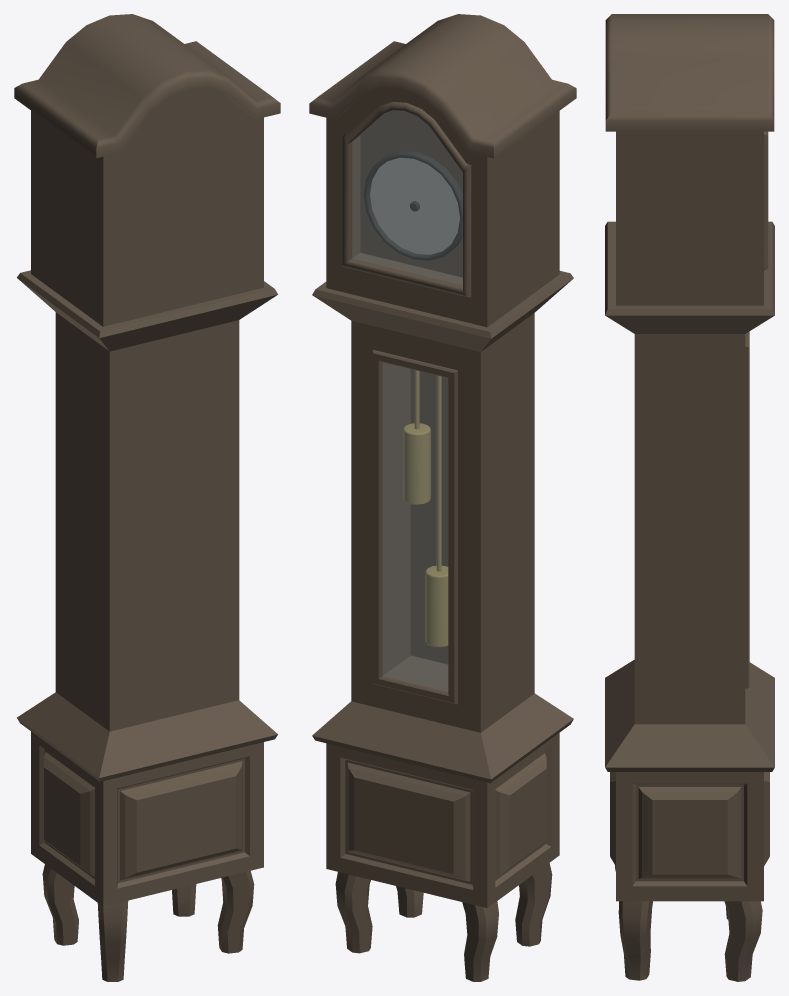
File: Reloj.fbx
3 renders of one model, left to right at view 1: azimuth 30°, elevation 25°; view 2: azimuth 150°, elevation 25°; view 3: azimuth 270°, elevation 25°, orthographic. The views are drawn at different scales.
Parts seen in each view (by area): view 1: Reloj; view 2: Reloj; view 3: Reloj.
Part boxes in pixels (x1,y1,x2,y2): Reloj: (14,14,280,981); Reloj: (309,14,576,981); Reloj: (605,14,774,981).
Bounding box in the file's own units: 88.96 × 415 × 69.05.
